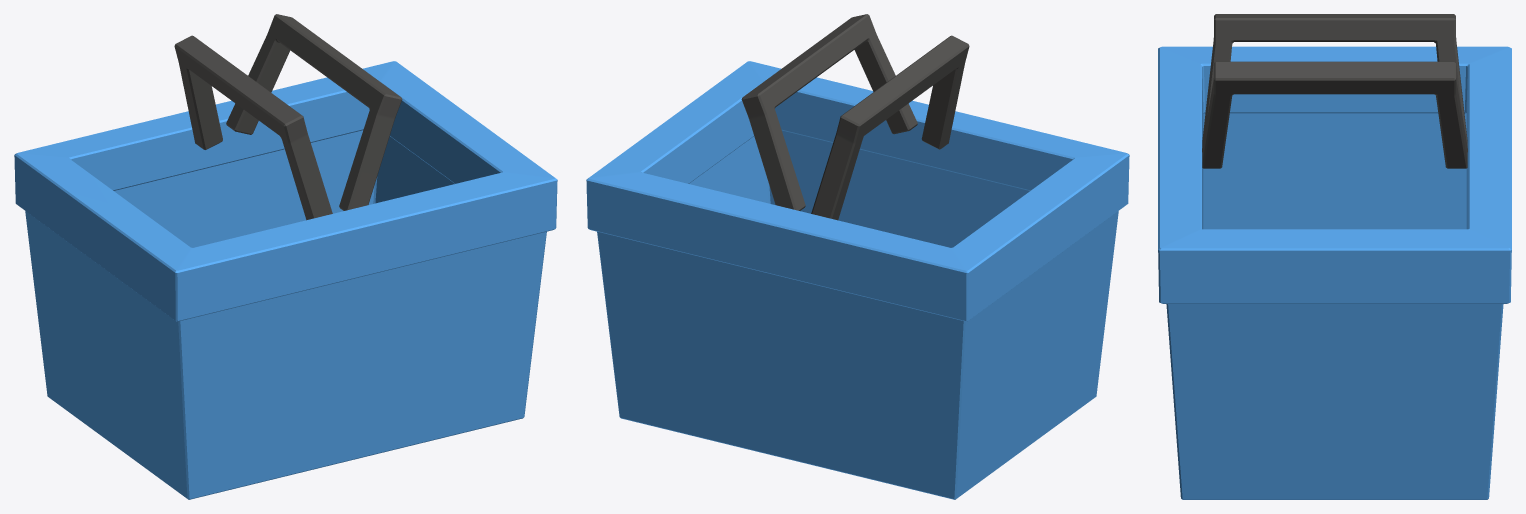
Rendered from Basket_Open_Blue.fbx.
The picture shows the model from 3 angles, left to right: view 1: azimuth 30°, elevation 25°; view 2: azimuth 150°, elevation 25°; view 3: azimuth 270°, elevation 25°; orthographic projection. The views are drawn at different scales.
Parts seen in each view (by area): view 1: Basket; view 2: Basket; view 3: Basket.
Boxes of the visible parts, <box> form: Basket: <box>14,14,557,499</box>; Basket: <box>586,14,1129,499</box>; Basket: <box>1158,14,1511,499</box>.
Size of the model in its own units: 0.9336 by 0.8005 by 0.6874.
Materials: 1 (1 with a texture image).
